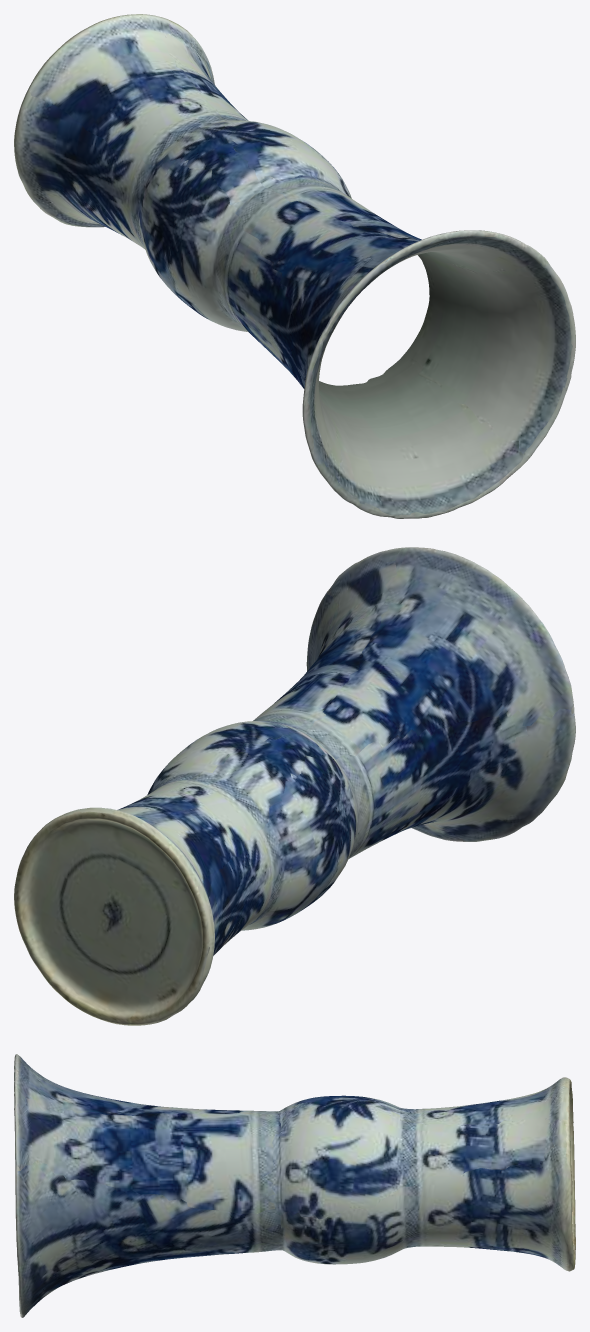
The model's file is smithsonian-Beaker-shaped_vase_from_a_five-piece_garniture.glb.
The picture shows the model from 3 angles, top to bottom: view 1: azimuth 30°, elevation 25°; view 2: azimuth 150°, elevation 25°; view 3: azimuth 270°, elevation 25°; orthographic projection. The views are drawn at different scales.
Visible parts, largest first — view 1: Mesh_0; view 2: Mesh_0; view 3: Mesh_0.
Part boxes in pixels (x1,y1,x2,y2): Mesh_0: [14, 14, 575, 518]; Mesh_0: [14, 547, 575, 1025]; Mesh_0: [14, 1054, 575, 1317].
Bounding box in the file's own units: 0.2031 × 0.2037 × 0.4338.
1 material, 1 textured.
